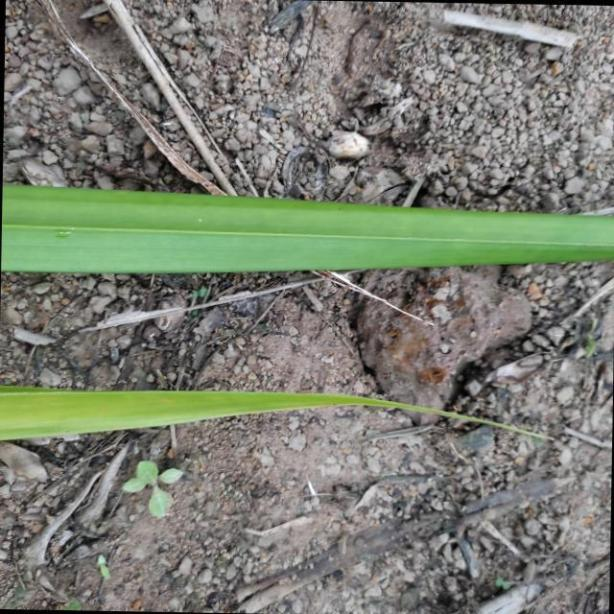nitrogen: (0, 182, 614, 275), (0, 383, 585, 440)
